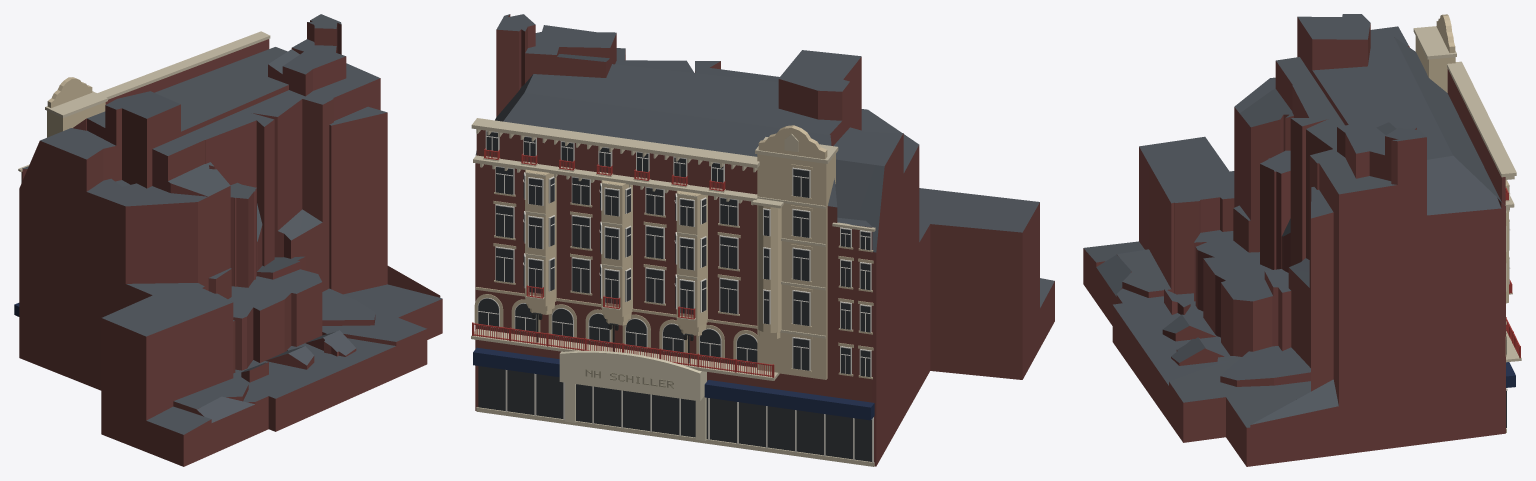
The model's file is schiller-deep-oriels.glb.
3 renders of one model, left to right at view 1: azimuth 30°, elevation 25°; view 2: azimuth 150°, elevation 25°; view 3: azimuth 270°, elevation 25°, orthographic. The views are drawn at different scales.
Parts seen in each view (by area): view 1: schiller-rembrandtplein; view 2: schiller-rembrandtplein; view 3: schiller-rembrandtplein.
Part boxes in pixels (<box>): schiller-rembrandtplein: <box>14,14,442,466</box>; schiller-rembrandtplein: <box>471,14,1054,466</box>; schiller-rembrandtplein: <box>1083,14,1521,466</box>.
Bounding box in the file's own units: 40.54 × 29.21 × 37.84.
